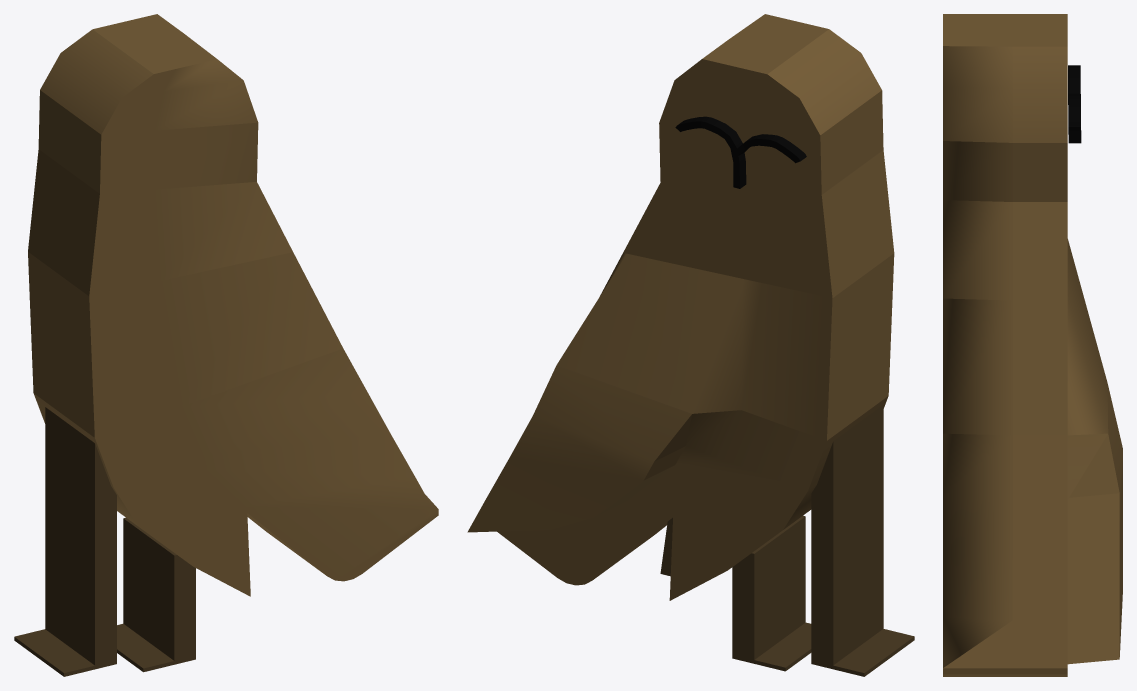
The model's file is symbol7new.fbx.
The picture shows the model from 3 angles, left to right: view 1: azimuth 30°, elevation 25°; view 2: azimuth 150°, elevation 25°; view 3: azimuth 270°, elevation 25°; orthographic projection.
Visible parts, largest first — view 1: symbol7; view 2: symbol7; view 3: symbol7.
Boxes of the visible parts, x1=… form: symbol7: x1=14, y1=14, x2=438, y2=676; symbol7: x1=467, y1=14, x2=914, y2=676; symbol7: x1=943, y1=14, x2=1122, y2=676.
Bounding box in the file's own units: 36.96 × 56.65 × 15.21.
